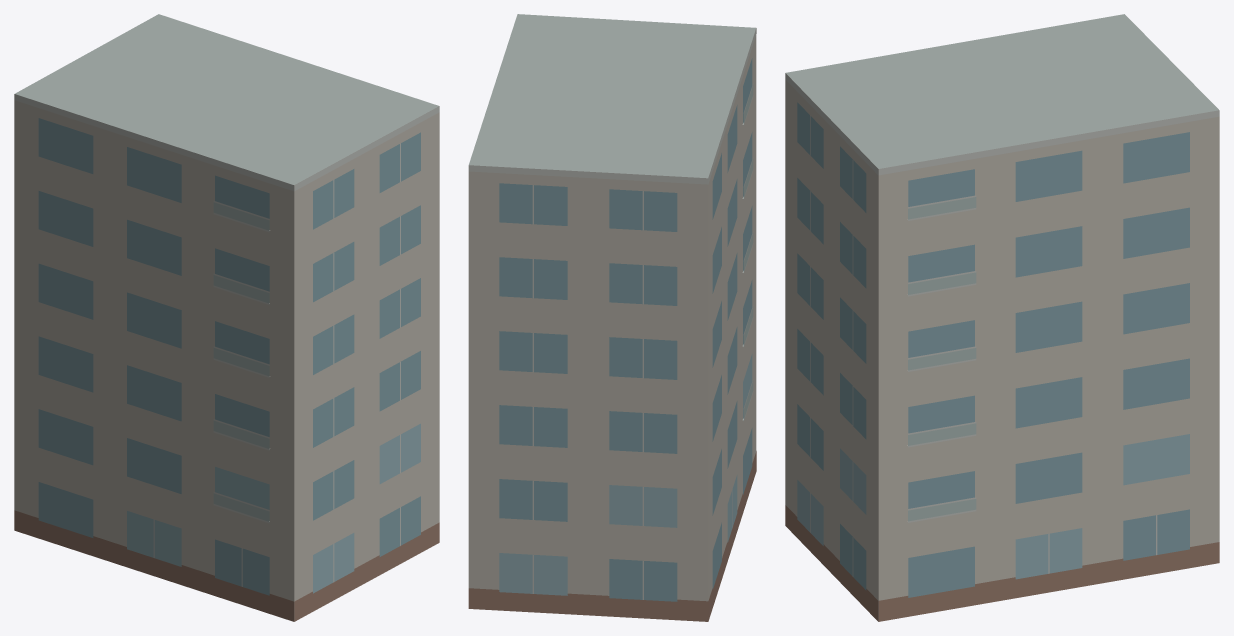
File: survey-upis-32568407.glb
3 views of the same model, side by side, from view 1: azimuth 30°, elevation 25°; view 2: azimuth 150°, elevation 25°; view 3: azimuth 270°, elevation 25° (orthographic). The views are drawn at different scales.
Parts seen in each view (by area): view 1: survey-upis-32568407.tmp; view 2: survey-upis-32568407.tmp; view 3: survey-upis-32568407.tmp.
Boxes of the visible parts, <box> form: survey-upis-32568407.tmp: <box>14,14,439,621</box>; survey-upis-32568407.tmp: <box>468,14,756,621</box>; survey-upis-32568407.tmp: <box>785,14,1219,621</box>.
Size of the model in its own units: 12.64 by 17.2 by 14.96.
